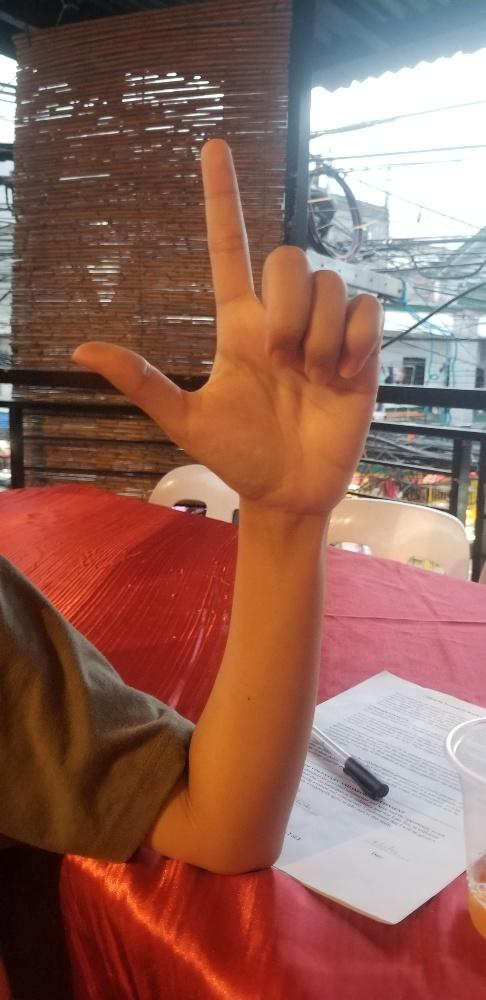l: (72, 135, 384, 512)
